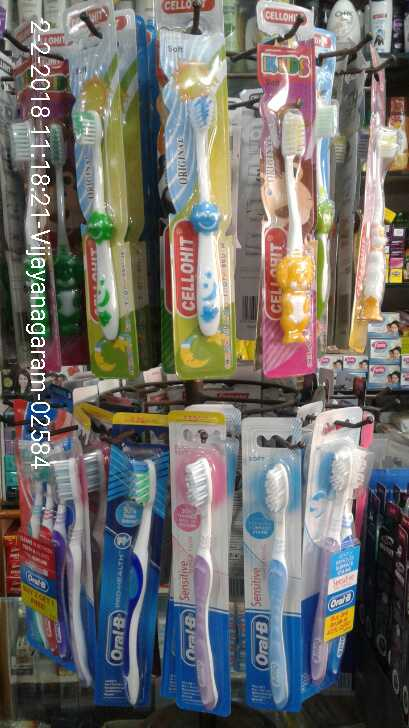oralb: (17, 412, 86, 690), (242, 456, 302, 708), (312, 440, 371, 696), (104, 429, 159, 697), (175, 446, 230, 708)
